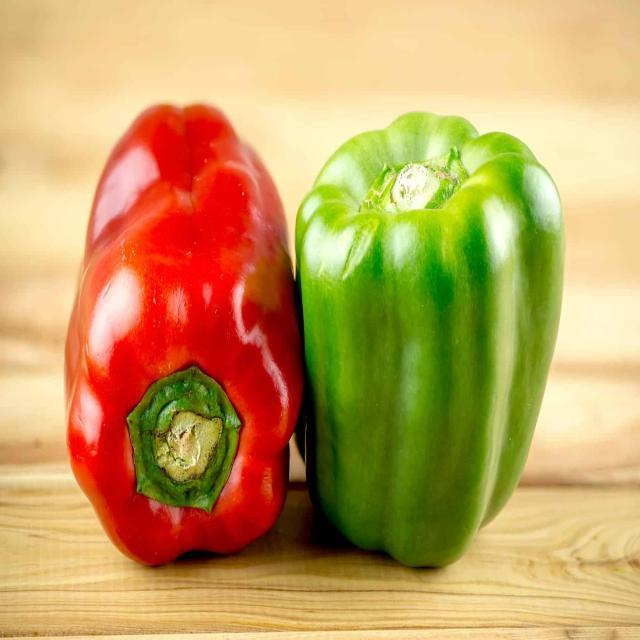bell_pepper: (293, 106, 567, 571), (63, 99, 303, 573)
